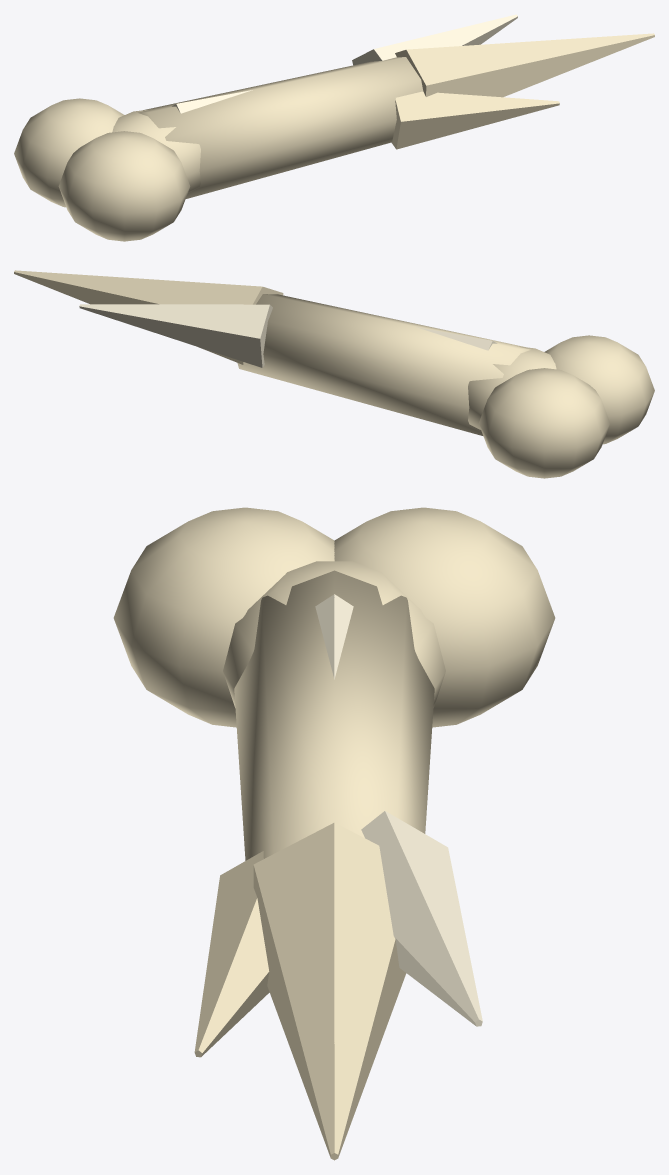
File: bone_shard.glb
3 renders of one model, top to bottom at view 1: azimuth 30°, elevation 25°; view 2: azimuth 150°, elevation 25°; view 3: azimuth 270°, elevation 25°, orthographic. The views are drawn at different scales.
Parts seen in each view (by area): view 1: BoneShard; view 2: BoneShard; view 3: BoneShard.
Part boxes in pixels (<box>): BoneShard: <box>14,14,654,241</box>; BoneShard: <box>14,270,654,478</box>; BoneShard: <box>113,507,555,1160</box>.
Size of the model in its own units: 0.662 by 0.0996 by 0.208.
